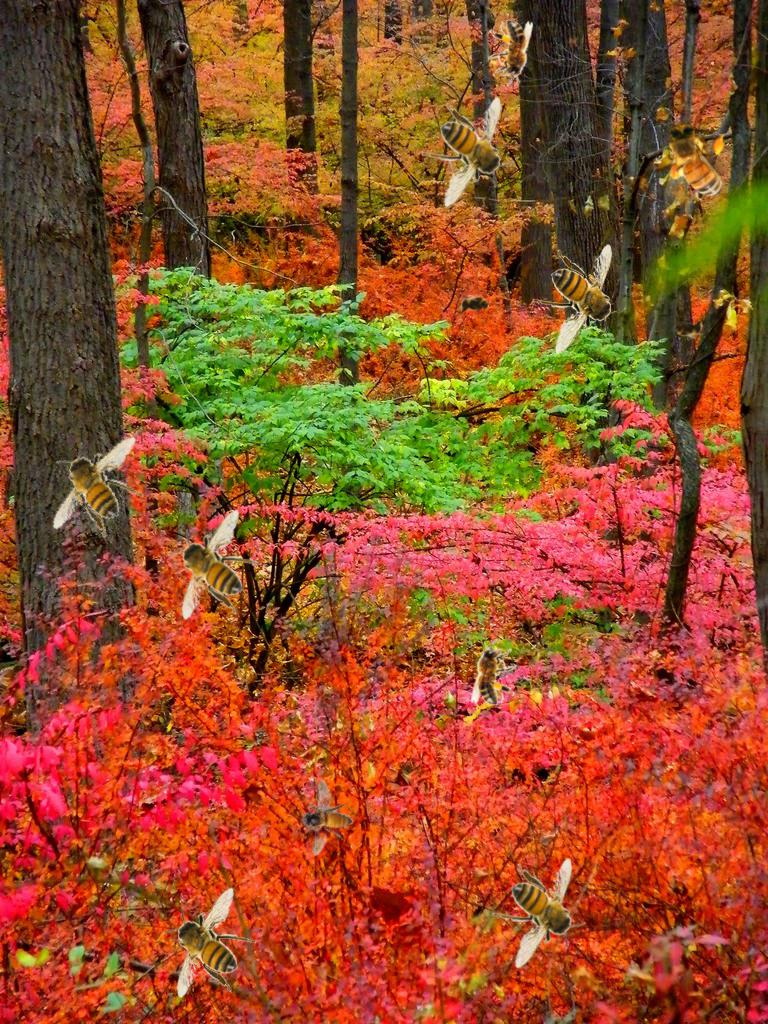Bee: (38, 417, 159, 551), (532, 244, 626, 355), (421, 97, 515, 208), (492, 858, 586, 969), (168, 509, 262, 620), (163, 887, 257, 998), (286, 778, 364, 865), (660, 116, 728, 209), (471, 639, 516, 705), (488, 20, 533, 86), (455, 294, 495, 316), (668, 317, 708, 339)
